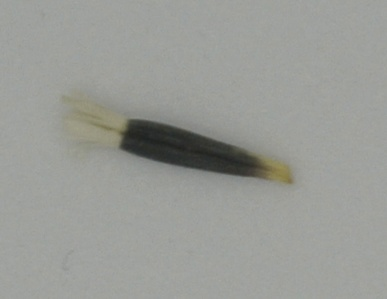เมล็ดดีติดกัน: (58, 93, 296, 184)
